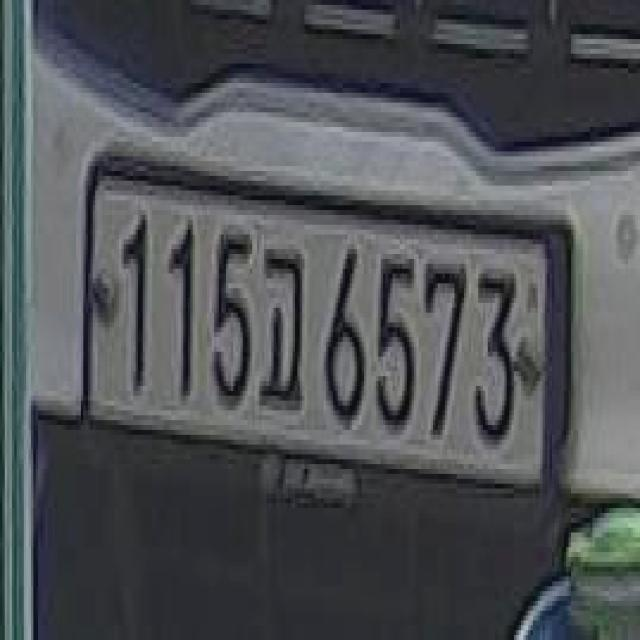illegal_plate: (83, 148, 561, 512)
